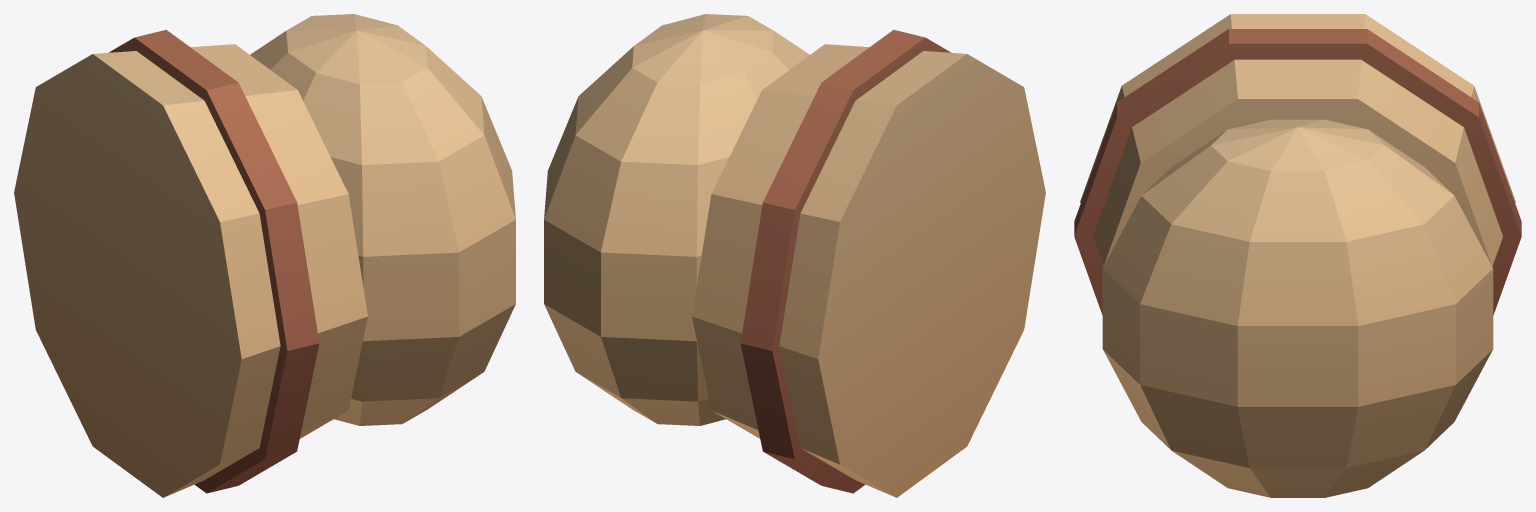
Rendered from leather_gloves.glb.
The picture shows the model from 3 angles, left to right: view 1: azimuth 30°, elevation 25°; view 2: azimuth 150°, elevation 25°; view 3: azimuth 270°, elevation 25°; orthographic projection. The views are drawn at different scales.
Parts seen in each view (by area): view 1: leather_gloves; view 2: leather_gloves; view 3: leather_gloves.
Part boxes in pixels (x1,y1,x2,y2): leather_gloves: [14, 14, 515, 497]; leather_gloves: [544, 14, 1045, 497]; leather_gloves: [1074, 14, 1521, 497].
Bounding box in the file's own units: 0.3309 × 0.3614 × 0.38.
Materials: 1 (1 with a texture image).
